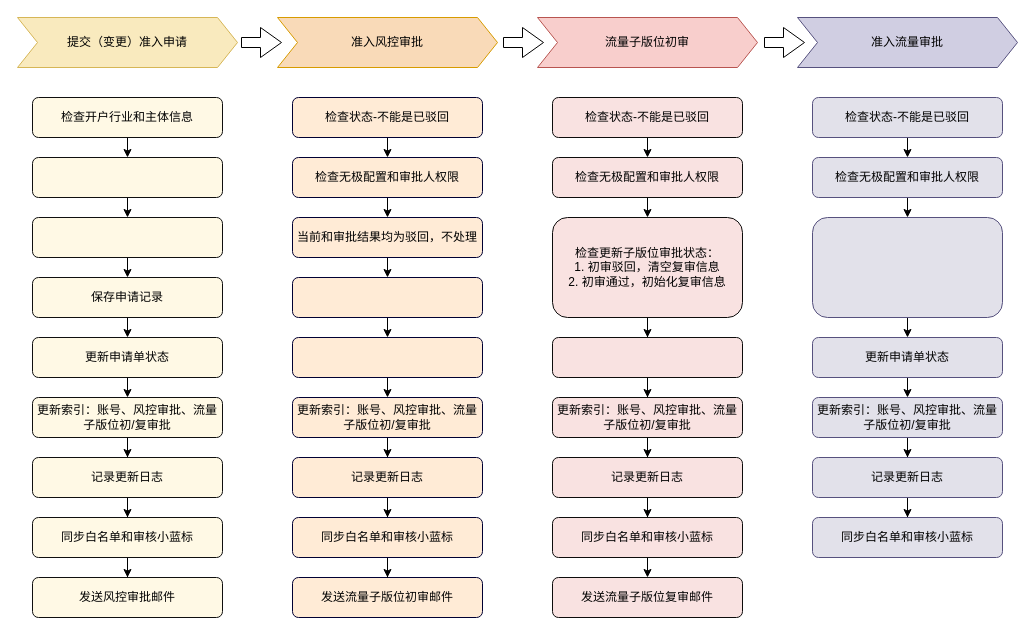
Image size: 1035x635. Some labels were removed from this diagram. Here are the shapes that lost their labels. From the top down, the centre of each, then its label:
At point 127,177: "检查投放账号不在已有申请单".
At point 127,237: "添加风控版位审批相关信息".
At point 907,267: "检查更新子版位审批状态 ，且复审通过： 1. 风控未通过，返回错误 2. 流量子版位初审未通过，错误".
At point 387,297: "处理流量子版位审批结果".
At point 387,357: "更新风控审批结果".
At point 647,357: "更新流量子版位初审结果".
